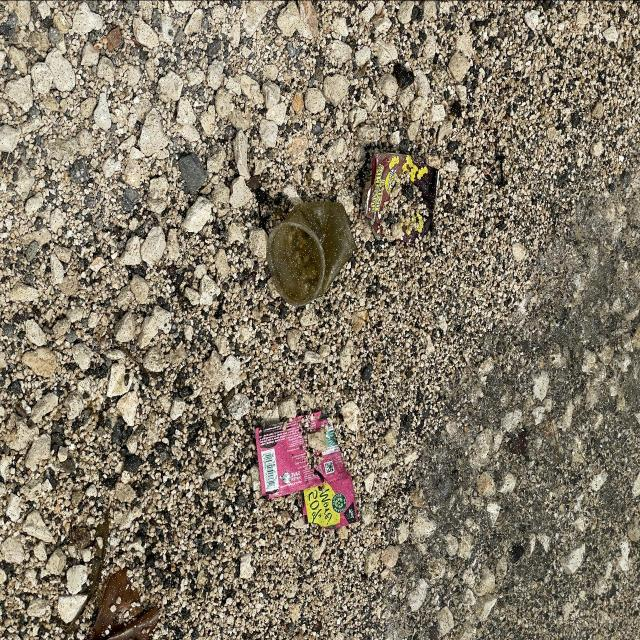plastic_waste: (250, 408, 356, 528), (271, 198, 358, 304), (367, 152, 441, 247)
